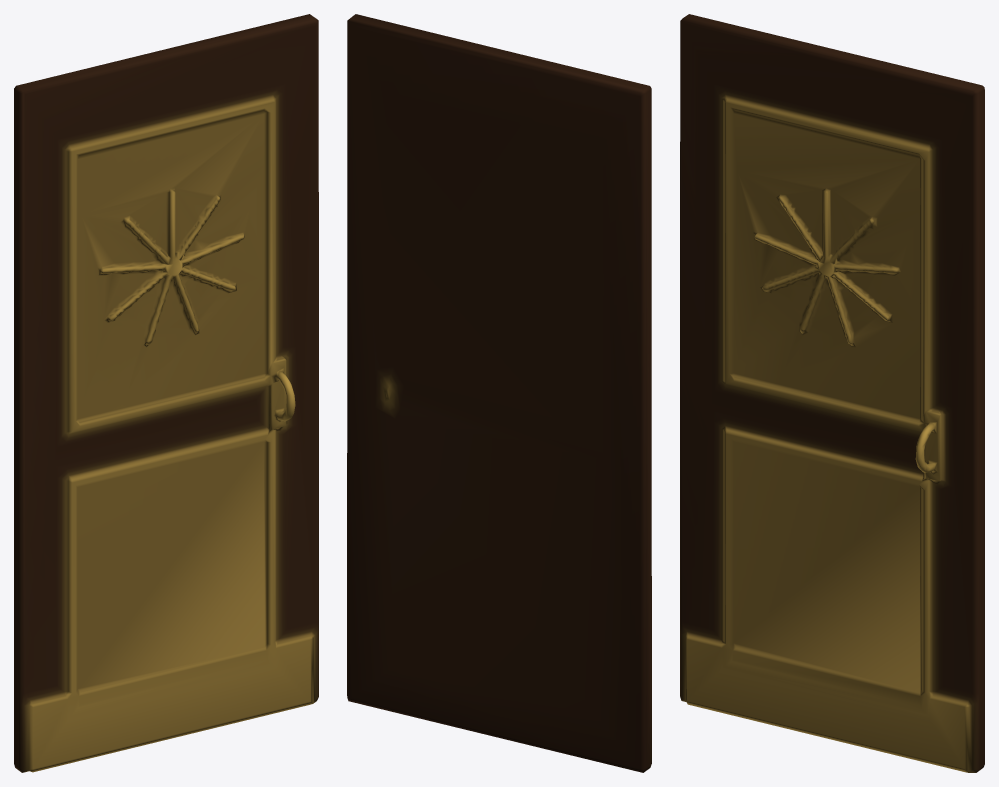
The model's file is lumiere-door-leaf.glb.
3 renders of one model, left to right at view 1: azimuth 30°, elevation 25°; view 2: azimuth 150°, elevation 25°; view 3: azimuth 330°, elevation 25°, orthographic.
Visible parts, largest first — view 1: lumiere-door-leaf_LOD0; view 2: lumiere-door-leaf_LOD0; view 3: lumiere-door-leaf_LOD0.
Part boxes in pixels (box(x1,y1,x2,y2)): lumiere-door-leaf_LOD0: box(14, 14, 318, 772); lumiere-door-leaf_LOD0: box(347, 14, 651, 772); lumiere-door-leaf_LOD0: box(680, 14, 984, 772).
Size of what is drawn, in the model's own units: 1.1 by 2.4 by 0.1666.
